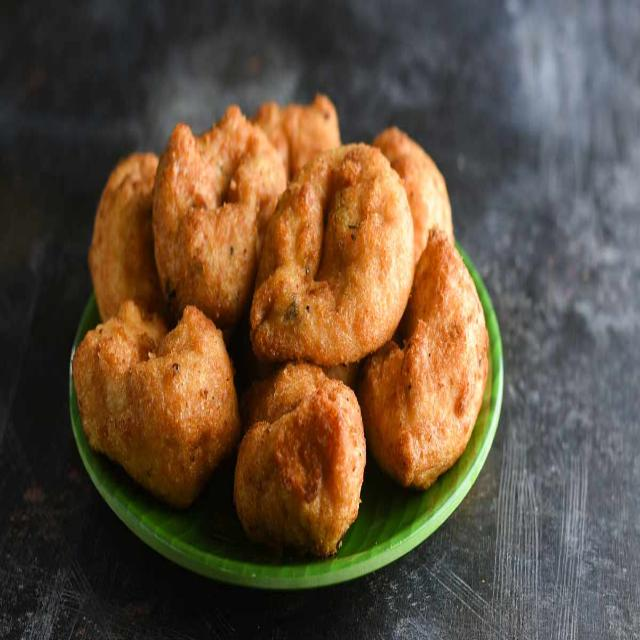VADA: (71, 90, 493, 559)
